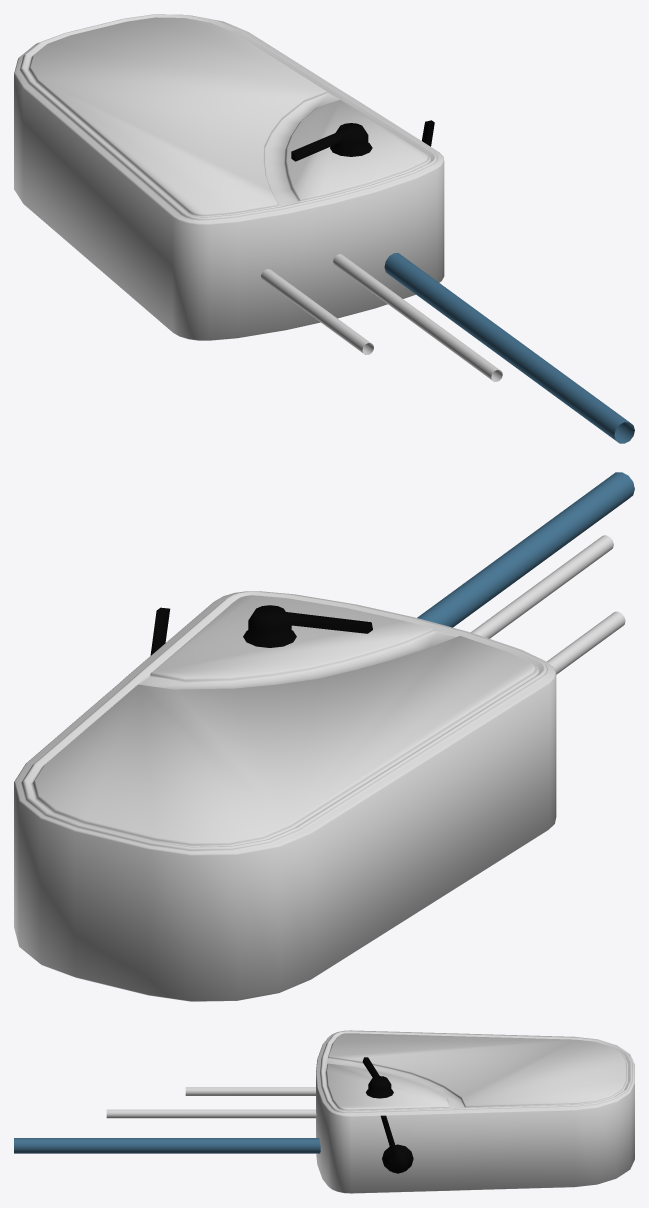
3 renders of one model, top to bottom at view 1: azimuth 30°, elevation 25°; view 2: azimuth 150°, elevation 25°; view 3: azimuth 270°, elevation 25°, orthographic. The views are drawn at different scales.
Parts seen in each view (by area): view 1: Cube; view 2: Cube; view 3: Cube.
Boxes of the visible parts, x1,y1,x2,y2 form: Cube: (14, 14, 634, 443); Cube: (14, 472, 634, 1001); Cube: (14, 1030, 634, 1193).
Size of the model in its own units: 27.54 by 12.94 by 78.35.
